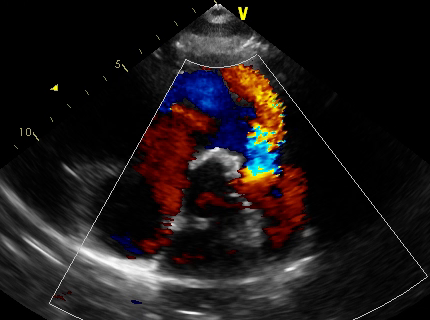PR: (240, 113, 287, 183)
